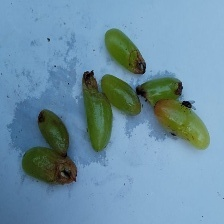grapes: (12, 38, 185, 194)
